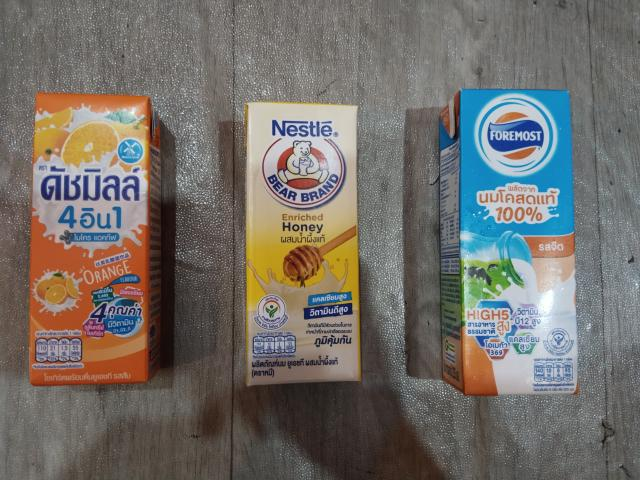drink_box: (435, 86, 582, 402), (24, 88, 160, 391), (240, 98, 363, 390)
